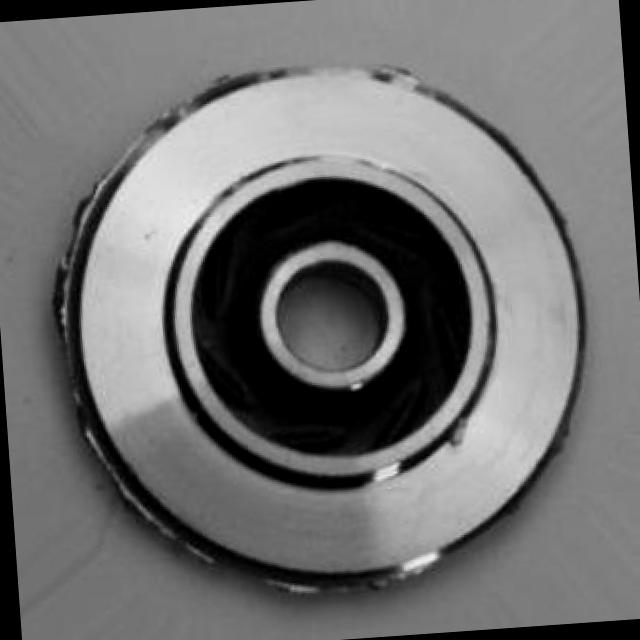Defect: (38, 180, 118, 250)
